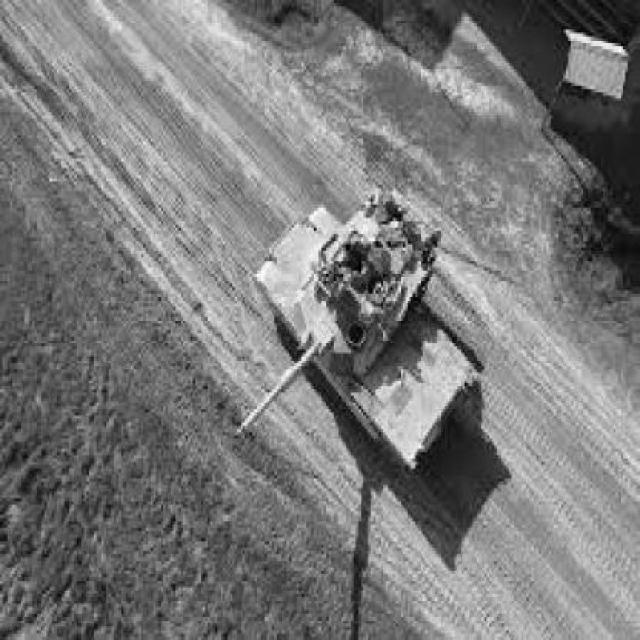Tank: (237, 195, 488, 484)
